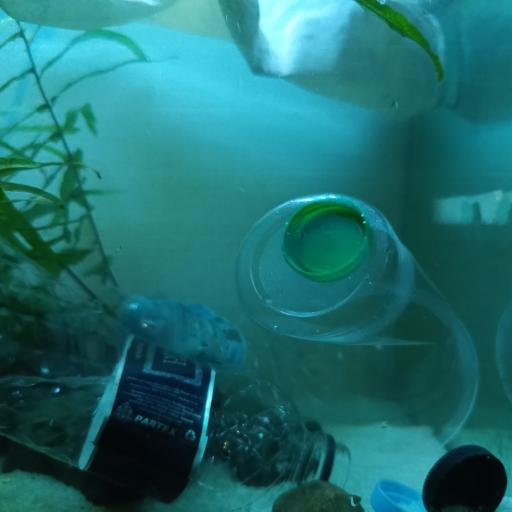bottle_cap: (284, 195, 370, 277), (422, 444, 508, 512), (371, 475, 426, 512)
plastic_bottle: (6, 298, 355, 498), (92, 297, 290, 385)
plastic_cup: (235, 194, 484, 462)
